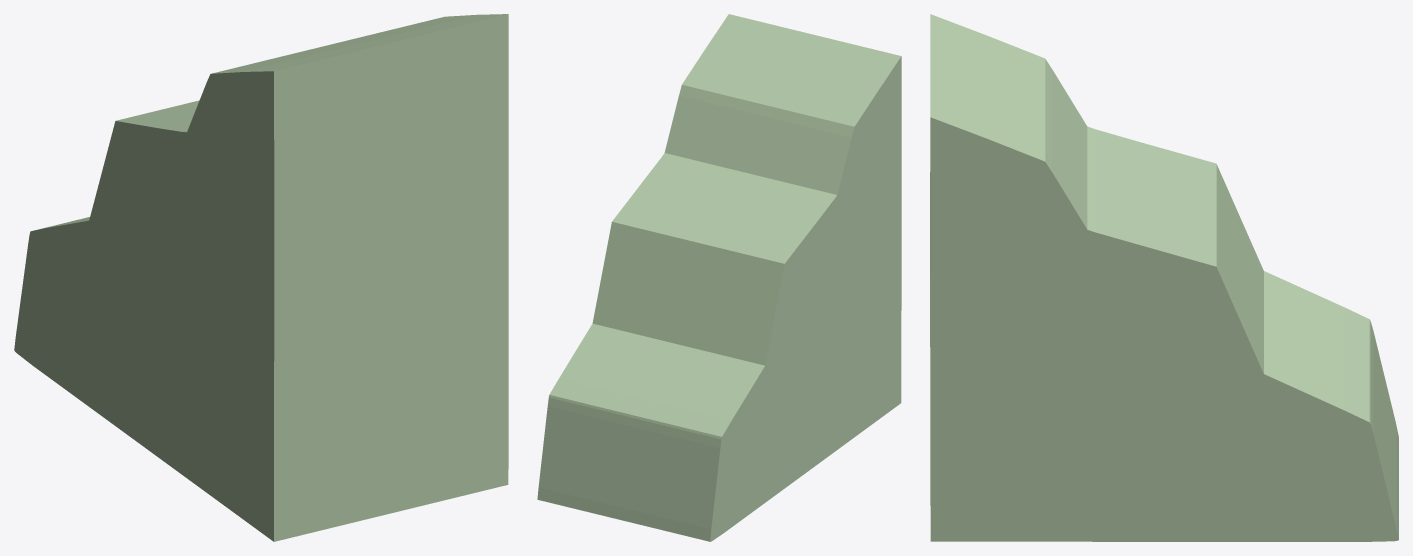
File: rock4.gltf
3 views of the same model, side by side, from view 1: azimuth 30°, elevation 25°; view 2: azimuth 150°, elevation 25°; view 3: azimuth 270°, elevation 25° (orthographic). The views are drawn at different scales.
Visible parts, largest first — view 1: Rock; view 2: Rock; view 3: Rock.
Part boxes in pixels (<box>): Rock: <box>14,14,508,541</box>; Rock: <box>537,14,901,541</box>; Rock: <box>930,14,1398,541</box>.
Size of the model in its own units: 62.5 by 120 by 120.
